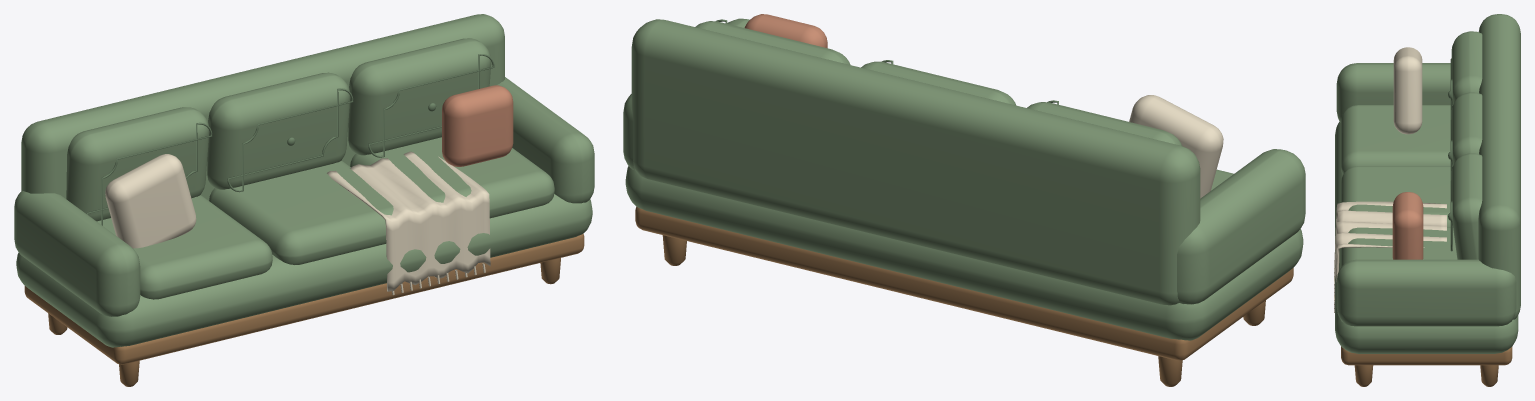
File: sofa.glb
3 renders of one model, left to right at view 1: azimuth 30°, elevation 25°; view 2: azimuth 150°, elevation 25°; view 3: azimuth 270°, elevation 25°, orthographic. The views are drawn at different scales.
Visible parts, largest first — view 1: sofa__Dye_Main_sofa, sofa__Oat_linen, sofa__Oak_frame, sofa__Clay_linen, sofa__Dye_Seam_sofa; view 2: sofa__Dye_Main_sofa, sofa__Oak_frame, sofa__Oat_linen, sofa__Clay_linen; view 3: sofa__Dye_Main_sofa, sofa__Oat_linen, sofa__Oak_frame, sofa__Clay_linen, sofa__Dye_Seam_sofa.
Part boxes in pixels (x1,y1,x2,y2): sofa__Dye_Main_sofa: (14, 14, 594, 347); sofa__Oat_linen: (105, 151, 490, 295); sofa__Oak_frame: (24, 233, 584, 386); sofa__Clay_linen: (442, 85, 513, 166); sofa__Dye_Seam_sofa: (86, 54, 494, 225); sofa__Dye_Main_sofa: (623, 18, 1305, 340); sofa__Oak_frame: (635, 206, 1293, 386); sofa__Oat_linen: (1129, 95, 1223, 198); sofa__Clay_linen: (744, 14, 827, 48); sofa__Dye_Main_sofa: (1335, 14, 1520, 353); sofa__Oat_linen: (1334, 47, 1446, 312); sofa__Oak_frame: (1341, 346, 1512, 386); sofa__Clay_linen: (1392, 192, 1423, 259); sofa__Dye_Seam_sofa: (1448, 58, 1452, 251).
Bounding box in the file's own units: 2.99 × 1.19 × 1.1.
